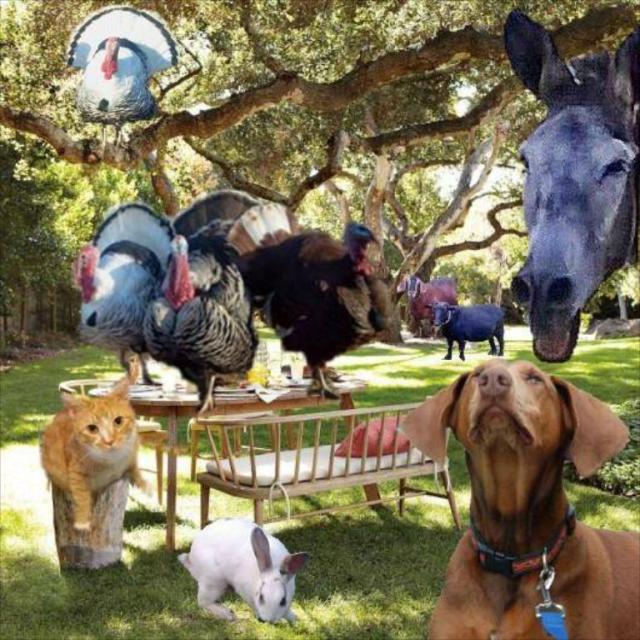Cat: (37, 378, 154, 520)
Dog: (397, 358, 638, 638)
